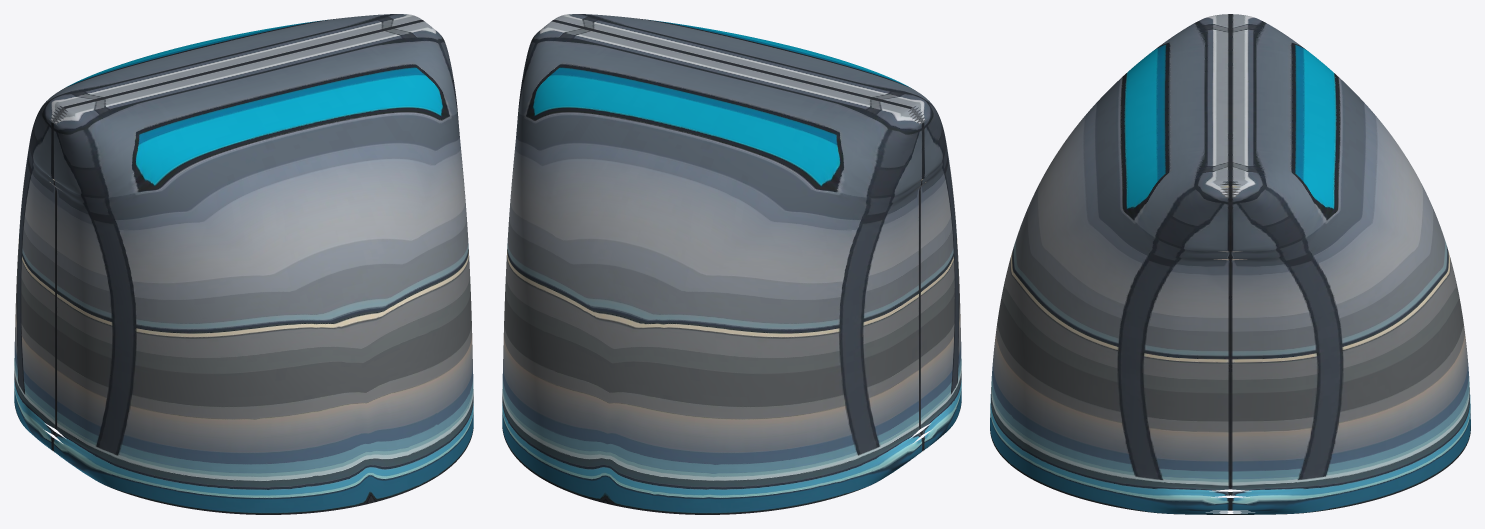
The model's file is bulkhead.glb.
3 renders of one model, left to right at view 1: azimuth 30°, elevation 25°; view 2: azimuth 150°, elevation 25°; view 3: azimuth 270°, elevation 25°, orthographic. The views are drawn at different scales.
Parts seen in each view (by area): view 1: bulkhead; view 2: bulkhead; view 3: bulkhead.
Part boxes in pixels (x1,y1,x2,y2): bulkhead: [14, 14, 473, 514]; bulkhead: [502, 14, 961, 514]; bulkhead: [990, 14, 1470, 514].
Bounding box in the file's own units: 0.989 × 0.858 × 1.13.
Materials: 1 (1 with a texture image).
